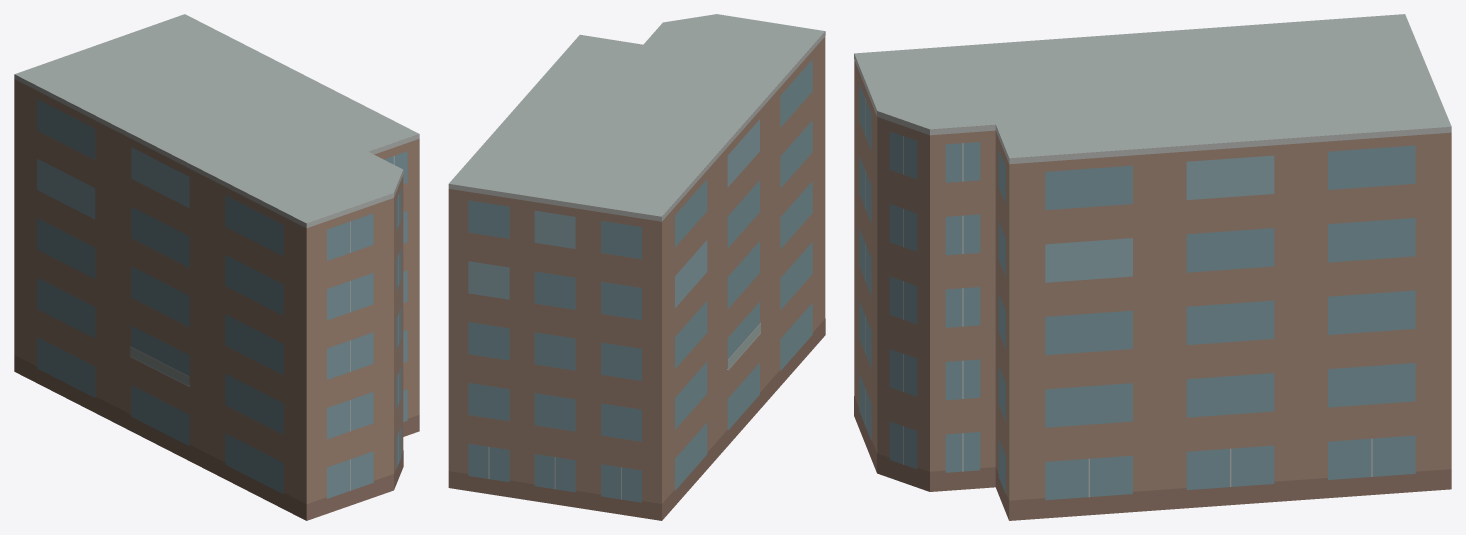
File: survey-upis-32575682.glb
3 views of the same model, side by side, from view 1: azimuth 30°, elevation 25°; view 2: azimuth 150°, elevation 25°; view 3: azimuth 270°, elevation 25° (orthographic). The views are drawn at different scales.
Parts seen in each view (by area): view 1: survey-upis-32575682.tmp; view 2: survey-upis-32575682.tmp; view 3: survey-upis-32575682.tmp.
Part boxes in pixels (left/top/right/bottom): survey-upis-32575682.tmp: left=14, top=14, right=419, bottom=520; survey-upis-32575682.tmp: left=448, top=14, right=825, bottom=520; survey-upis-32575682.tmp: left=854, top=14, right=1451, bottom=520.
Bounding box in the file's own units: 12.82 × 15 × 22.42.
